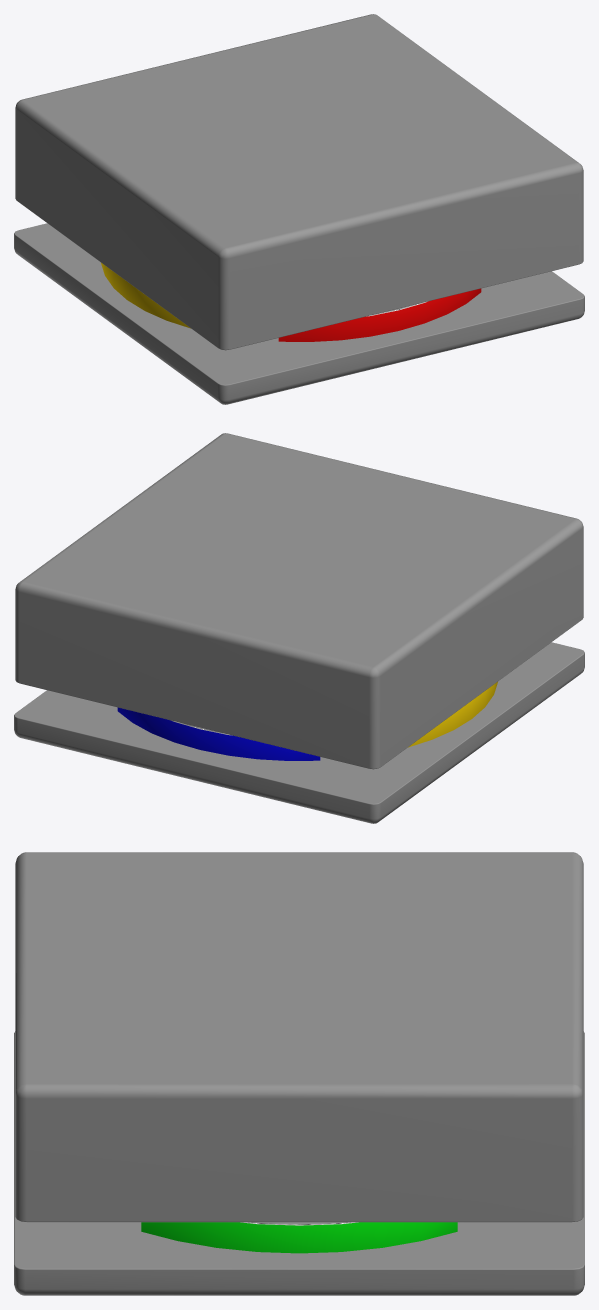
The model's file is InfoCube03.FBX.
3 renders of one model, top to bottom at view 1: azimuth 30°, elevation 25°; view 2: azimuth 150°, elevation 25°; view 3: azimuth 270°, elevation 25°, orthographic. The views are drawn at different scales.
Visible parts, largest first — view 1: ChamferBox001, Cylinder004; view 2: ChamferBox001, Cylinder004; view 3: ChamferBox001, Cylinder004.
Part boxes in pixels (<box>): ChamferBox001: <box>14,14,584,404</box>; Cylinder004: <box>101,263,481,341</box>; ChamferBox001: <box>14,433,584,823</box>; Cylinder004: <box>117,682,497,760</box>; ChamferBox001: <box>14,852,584,1295</box>; Cylinder004: <box>141,1222,457,1253</box>.
Bounding box in the file's own units: 0.6392 × 0.367 × 0.6392.
